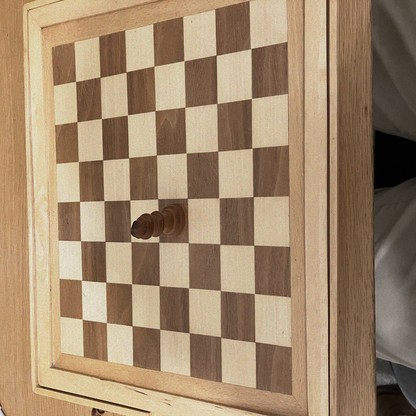king_black: (132, 205, 185, 239)
